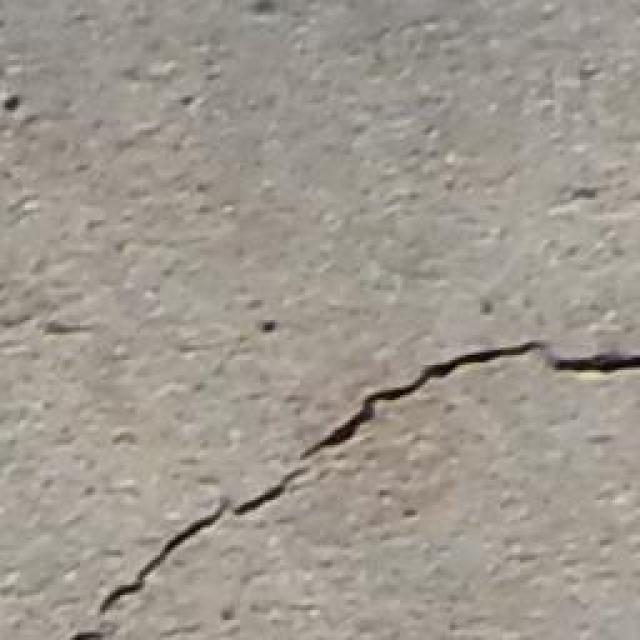concrete-crack: (74, 332, 640, 640)
